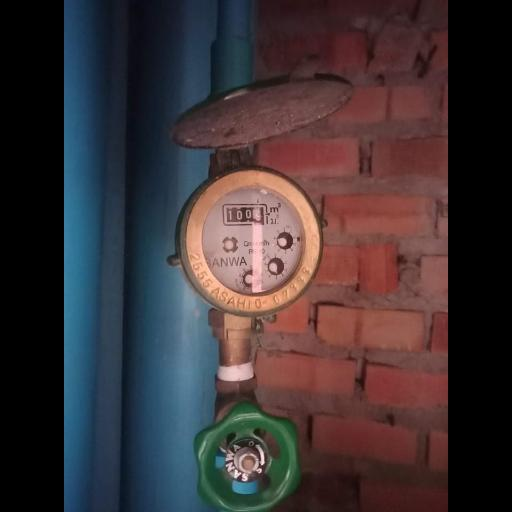0: (234, 207, 245, 222), (245, 207, 256, 222)
1: (226, 207, 235, 222)
border_water_meter_number: (221, 201, 270, 227)
